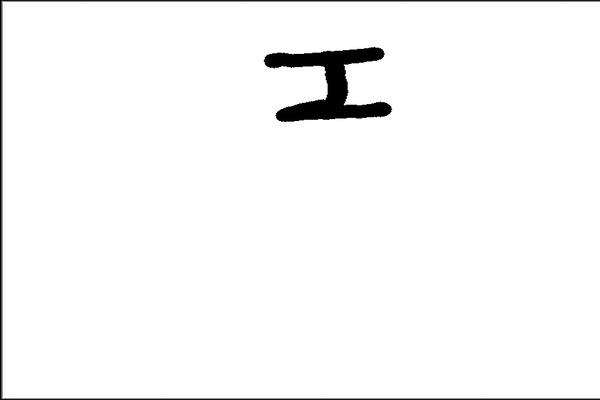i: (259, 36, 402, 126)
